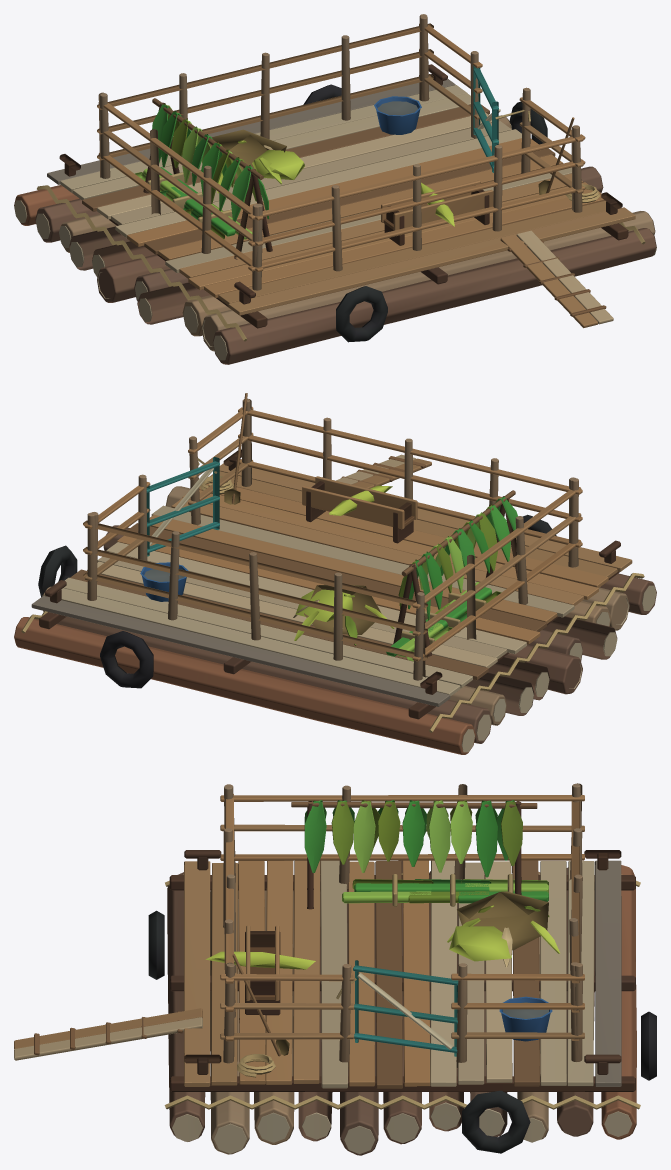
The model's file is corral_raft-DZIfKwmE.glb.
3 views of the same model, one above another, from view 1: azimuth 30°, elevation 25°; view 2: azimuth 150°, elevation 25°; view 3: azimuth 270°, elevation 25° (orthographic). The views are drawn at different scales.
Parts seen in each view (by area): view 1: corral_raft; view 2: corral_raft; view 3: corral_raft.
Part boxes in pixels (x1,y1,x2,y2): corral_raft: (14, 14, 656, 364); corral_raft: (14, 393, 656, 754); corral_raft: (14, 783, 656, 1155).
Bounding box in the file's own units: 8.12 × 2.36 × 8.36.
